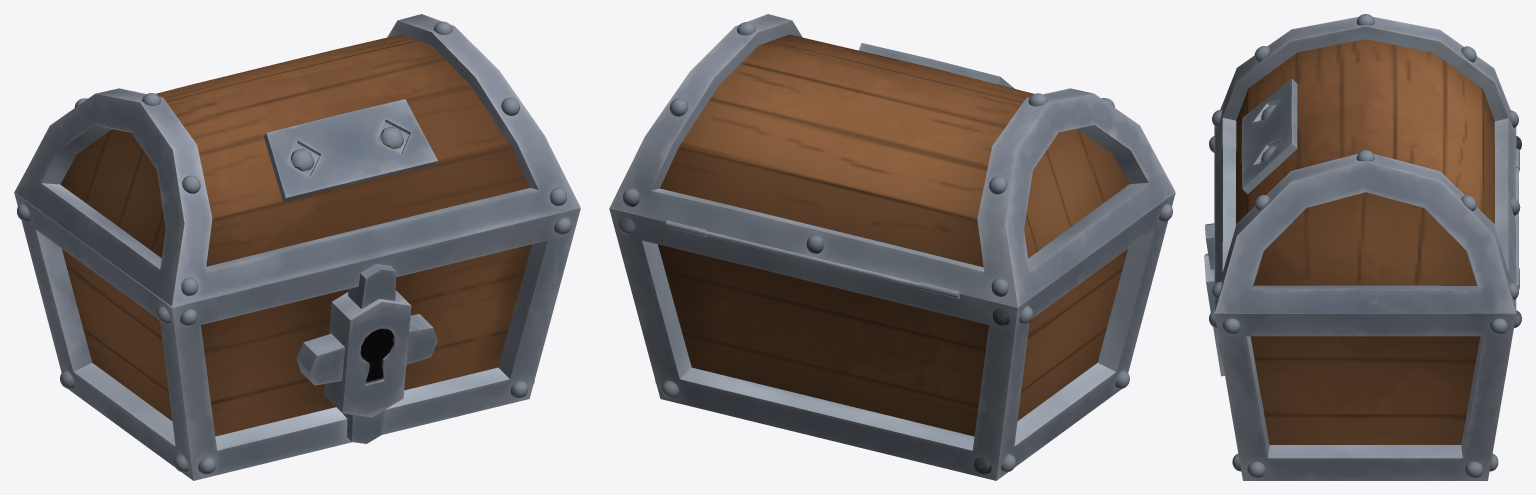
File: Chest.fbx
3 renders of one model, left to right at view 1: azimuth 30°, elevation 25°; view 2: azimuth 150°, elevation 25°; view 3: azimuth 270°, elevation 25°, orthographic. The views are drawn at different scales.
Visible parts, largest first — view 1: Cylinder.016, Cube.011; view 2: Cylinder.016, Cube.011, Cylinder.018; view 3: Cylinder.016, Cube.011, Cylinder.018.
Boxes of the visible parts, bbox=[...] form: Cylinder.016: bbox=[14, 14, 580, 306]; Cube.011: bbox=[14, 192, 580, 480]; Cylinder.016: bbox=[609, 14, 1175, 307]; Cube.011: bbox=[609, 192, 1175, 480]; Cylinder.018: bbox=[665, 220, 959, 298]; Cylinder.016: bbox=[1212, 14, 1520, 313]; Cube.011: bbox=[1204, 126, 1521, 480]; Cylinder.018: bbox=[1515, 148, 1519, 289].
Size of the model in its own units: 316 by 242 by 218.
4 materials, 4 textured.
